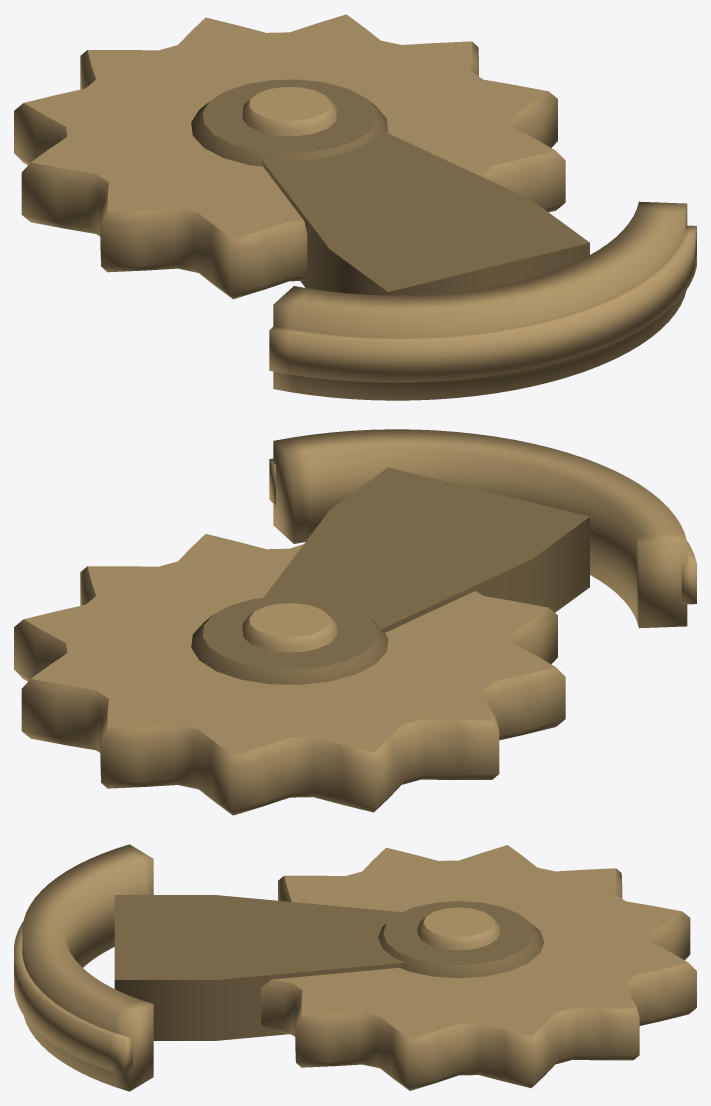
File: legend-rowels.glb
3 renders of one model, top to bottom at view 1: azimuth 30°, elevation 25°; view 2: azimuth 150°, elevation 25°; view 3: azimuth 270°, elevation 25°, orthographic. The views are drawn at different scales.
Visible parts, largest first — view 1: Beveled rowel wheel, Curved fork neck, Rolled yoke, Forged yoke rib, Raised rowel hub, Turned axle pin; view 2: Beveled rowel wheel, Curved fork neck, Rolled yoke, Raised rowel hub, Turned axle pin, Forged yoke rib; view 3: Beveled rowel wheel, Curved fork neck, Rolled yoke, Raised rowel hub, Forged yoke rib, Turned axle pin.
Boxes of the visible parts, x1,y1,x2,y2 form: Beveled rowel wheel: [14, 14, 565, 299]; Curved fork neck: [261, 129, 589, 295]; Rolled yoke: [273, 201, 687, 400]; Forged yoke rib: [269, 225, 696, 382]; Raised rowel hub: [191, 79, 388, 166]; Turned axle pin: [242, 87, 336, 136]; Beveled rowel wheel: [14, 534, 565, 815]; Curved fork neck: [263, 467, 589, 632]; Rolled yoke: [273, 429, 687, 628]; Raised rowel hub: [191, 596, 388, 684]; Turned axle pin: [242, 603, 336, 652]; Forged yoke rib: [269, 458, 696, 604]; Beveled rowel wheel: [261, 845, 696, 1090]; Curved fork neck: [114, 895, 405, 1040]; Rolled yoke: [22, 844, 153, 1091]; Raised rowel hub: [378, 901, 544, 978]; Forged yoke rib: [14, 922, 132, 1075]; Turned axle pin: [417, 907, 499, 950].
Bounding box in the file's own units: 0.0567 × 0.012 × 0.0813.
